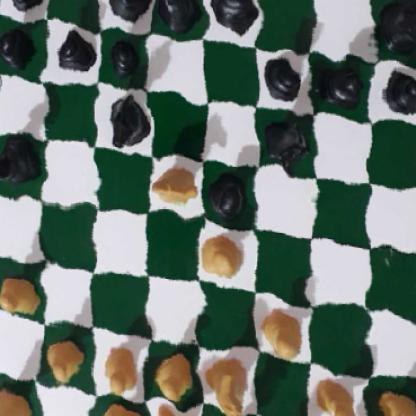black-bishop: (0, 136, 41, 190), (105, 0, 150, 26)
black-king: (212, 0, 255, 40)
black-knight: (261, 110, 305, 178), (108, 85, 148, 148)
black-pawn: (55, 22, 94, 77), (210, 167, 249, 222), (322, 57, 360, 112), (380, 67, 416, 124), (261, 52, 303, 99), (0, 22, 33, 69), (108, 35, 138, 78)
black-queen: (155, 0, 200, 33)
black-rook: (381, 0, 416, 57), (0, 0, 44, 10)
white-bishop: (99, 403, 144, 416)
white-king: (199, 406, 255, 416)
white-knight: (204, 346, 253, 416), (150, 159, 198, 210)
white-pawn: (99, 336, 140, 403), (259, 301, 303, 361), (150, 346, 194, 402), (44, 329, 86, 387), (311, 368, 361, 416), (0, 264, 40, 321), (199, 230, 241, 283), (374, 383, 416, 416)
white-queen: (149, 404, 198, 416)
white-rook: (0, 376, 30, 416)
